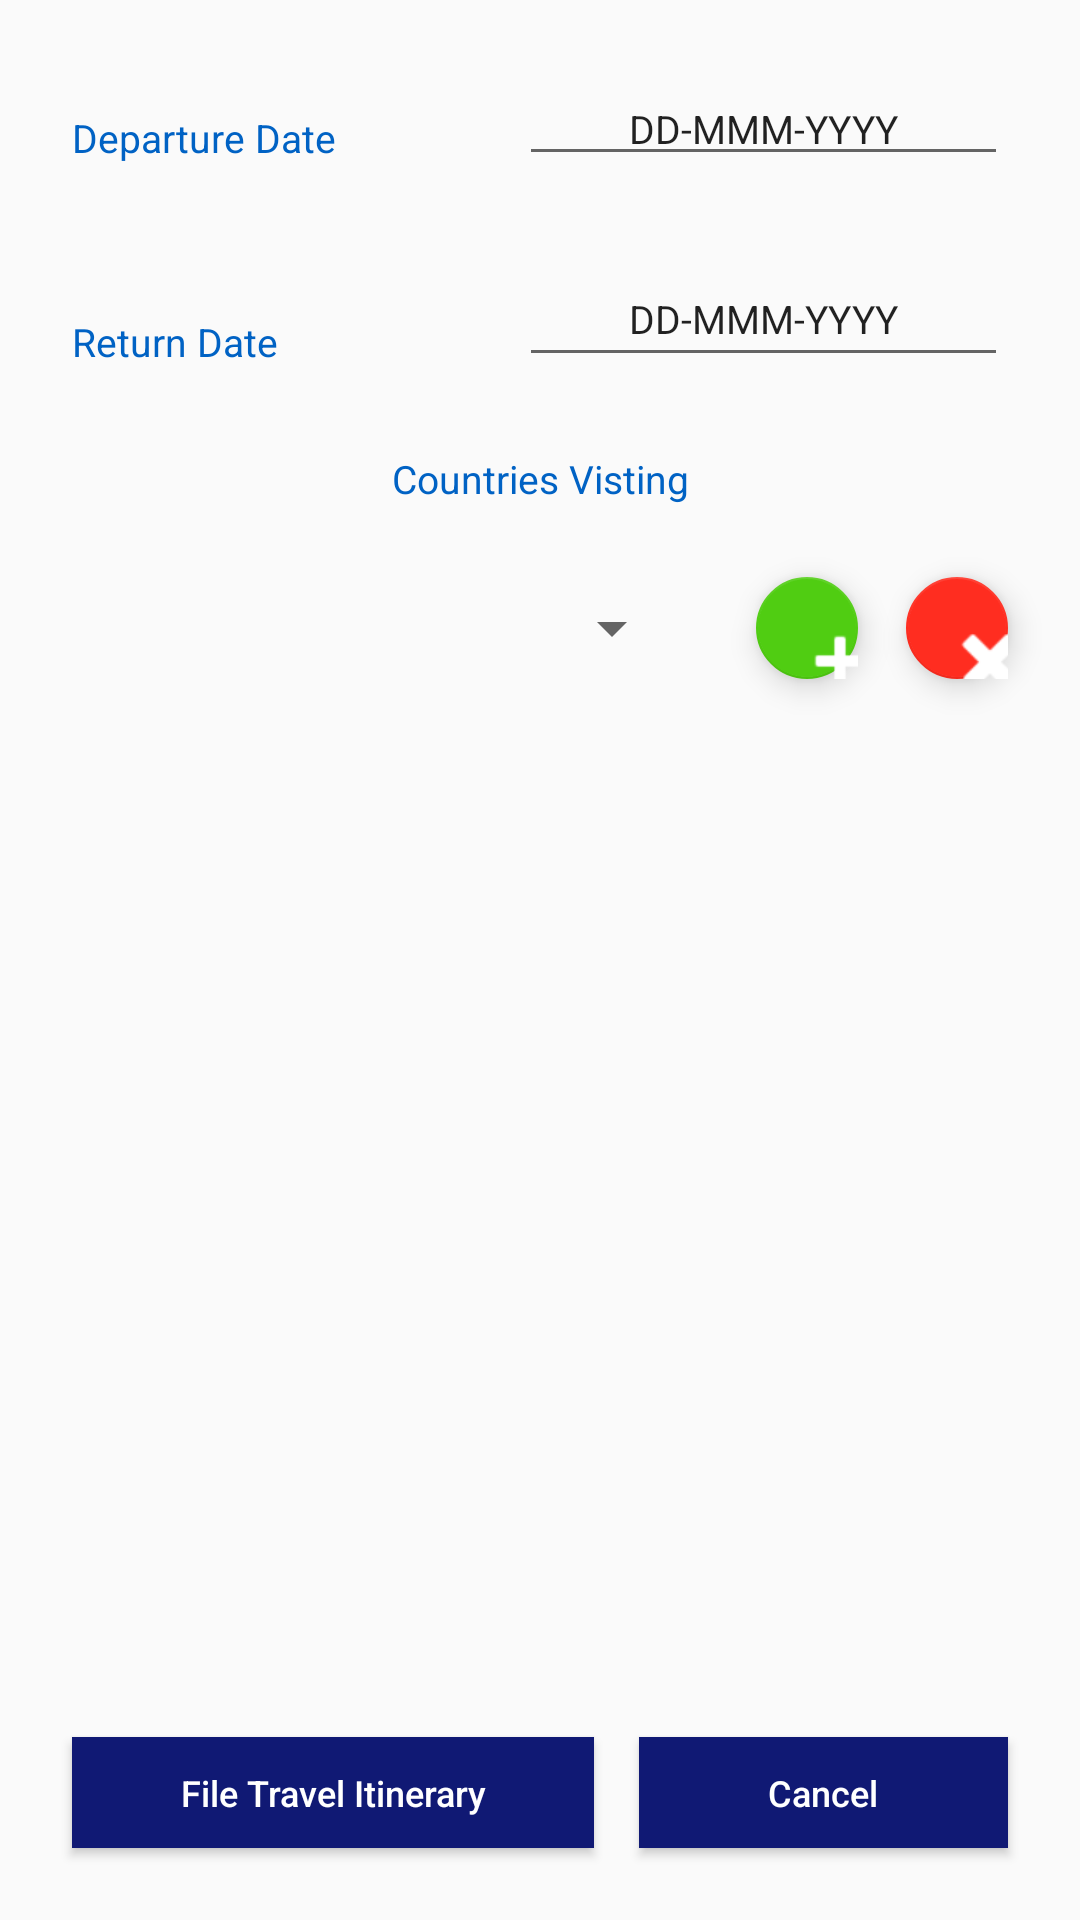

Where icons sit on this 1080 x 1920 app screen, as [x1,y1,x2,y2]:
add: [756,577,858,679]
delete: [906,577,1008,679]
